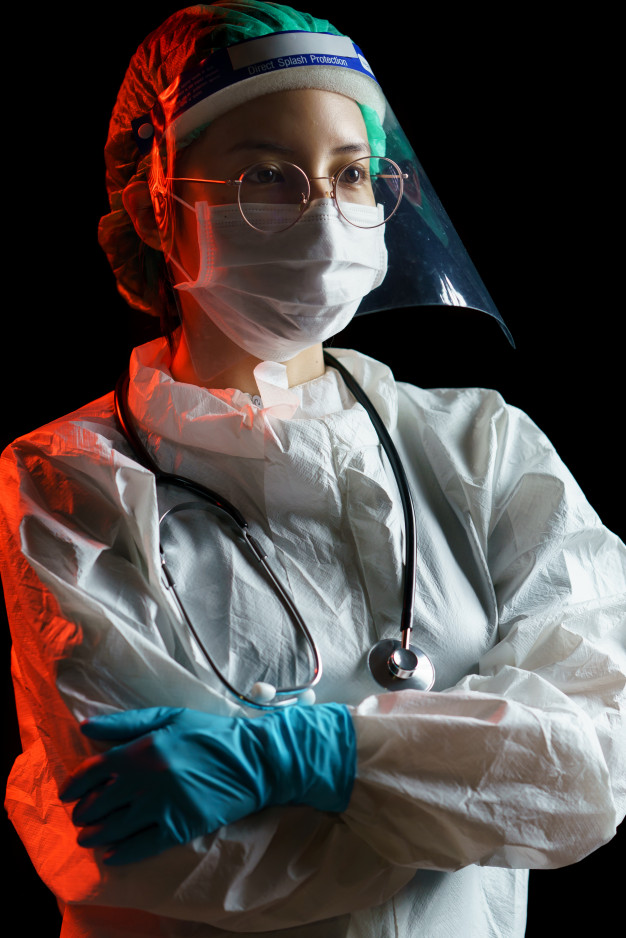Coverall: (1, 362, 626, 938)
Gloves: (62, 692, 356, 868)
with_mask: (188, 151, 388, 366)
